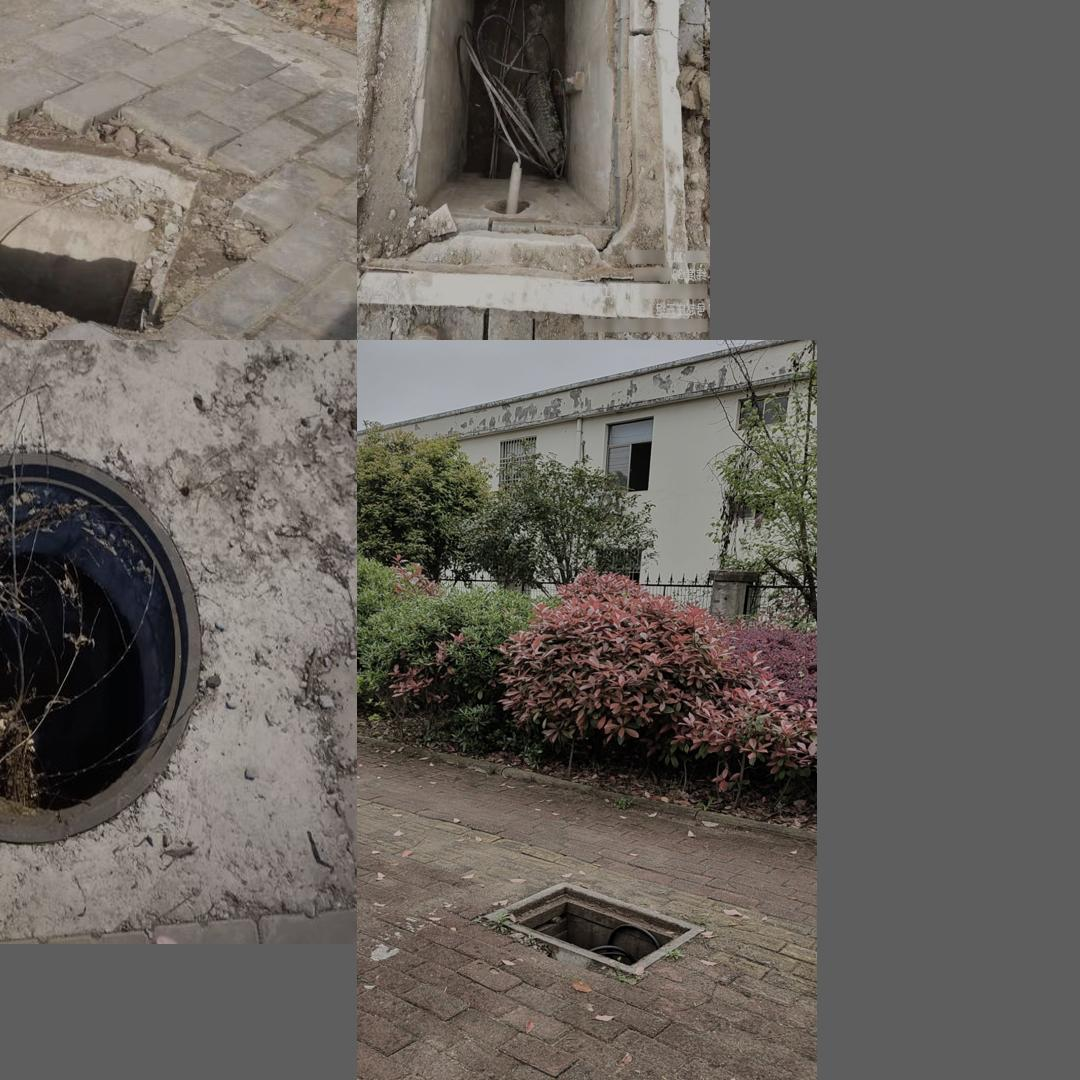lose: (357, 0, 690, 321), (0, 446, 211, 834), (0, 112, 201, 340), (476, 865, 721, 982)
